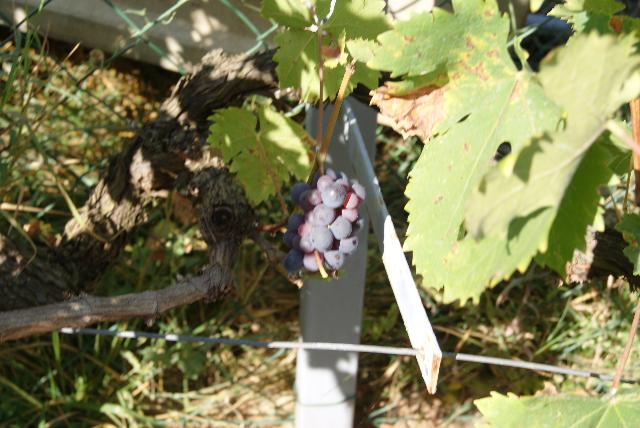grapes: (282, 169, 366, 272)
